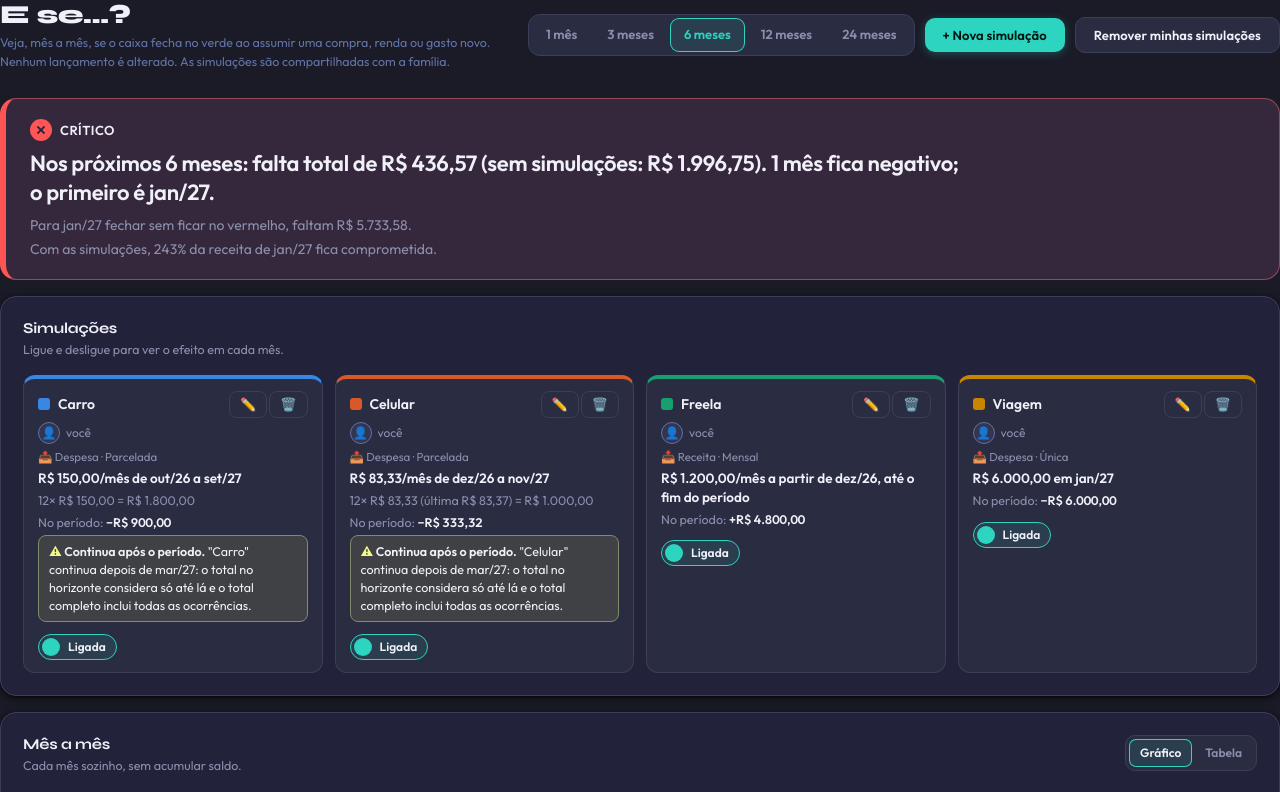
Test: SimulatorView: Remover minhas simulações pede confirmação › o texto diz que só as suas saem e as da família ficam, sem "neste navegador"
Click the button "Remover minhas simulações". click: [1177, 35]
box: [1075,17,1279,53]
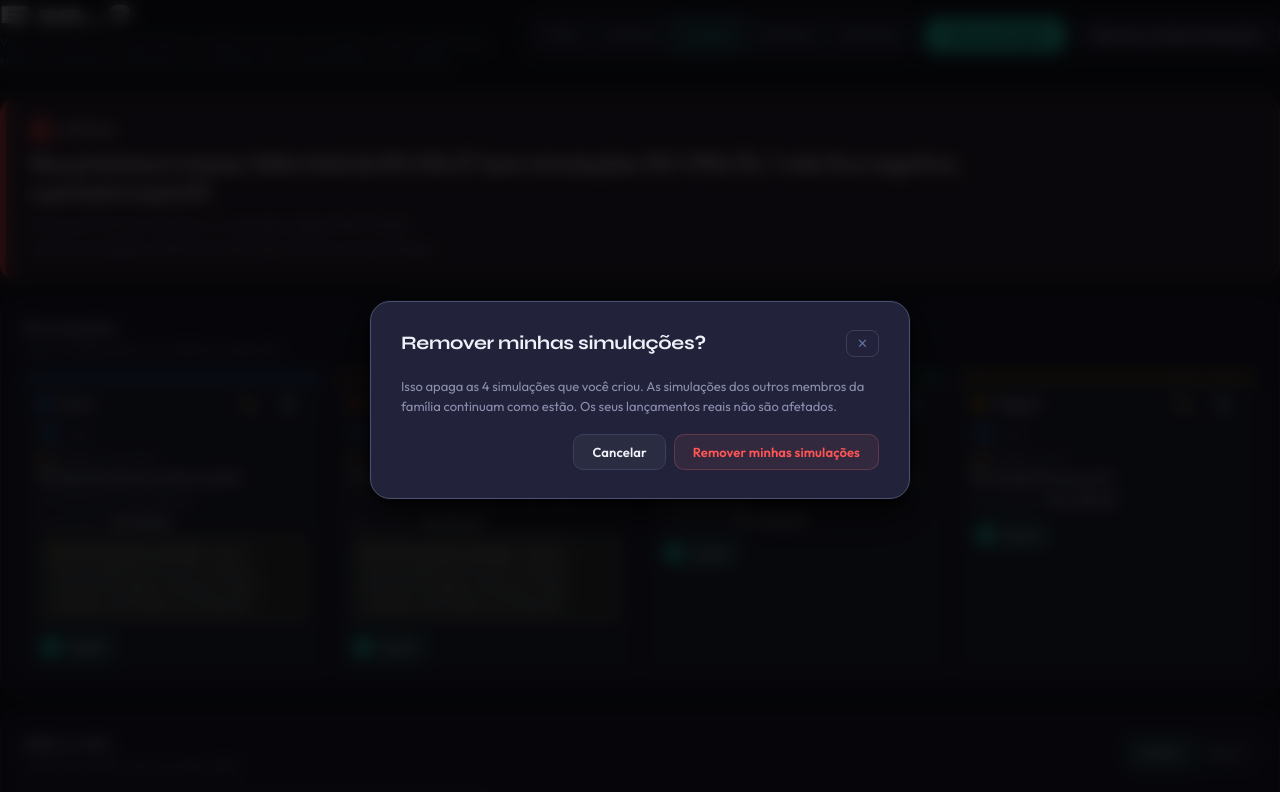
Expected: the text "Isso apaga" shows "as 4 simulações que você criou", [466,378,640,394]
Expected: the text "Isso apaga" shows "dos outros membros da família continuam como estão", [401,378,864,414]
